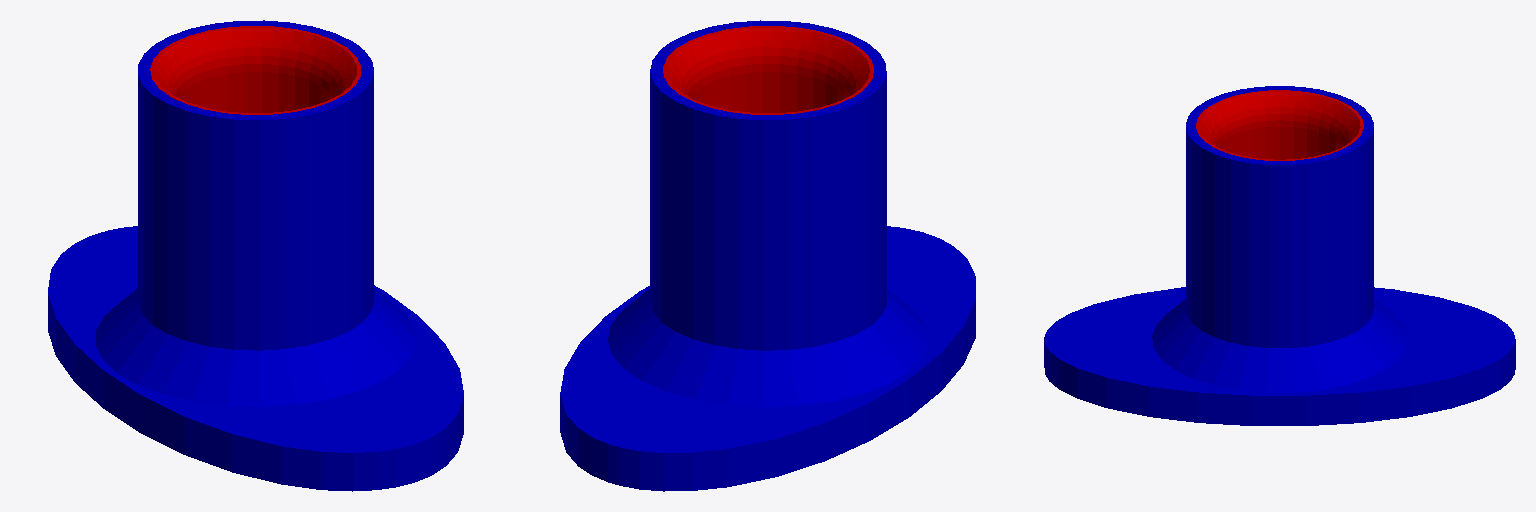
robot.urdf — sparkplug_socket:
<?xml version="1.0" encoding="utf-8"?>
<robot name="sparkplug_socket">
  <!-- <link name="world"/>
  <joint name="sparkplug_socket_to_world" type="fixed">
    <parent link="world"/>
    <child link="sparkplug_socket_outer"/>
    <origin rpy="0 0 0" xyz="0 0 0"/>
  </joint> -->
  <!-- Hack: Make the sparkplug socket super heavy. Unfortunately the base position cannot be changed after spawning in the simulation IF there is a joint between the model and the base frame. :( -->
  <link name="sparkplug_socket_outer">
    <inertial>
      <mass value="1000.0"/>
      <origin rpy="0 0 0" xyz="0 0 0"/>
      <inertia ixx="1" ixy="1e-1" ixz="-1e-1" iyy="1" iyz="1e-1" izz="1"/>
    </inertial>
    <visual>
      <origin rpy="0 0 0" xyz="0 0 0"/>
      <geometry>
        <mesh filename="model://sparkplug_socket/meshes/visual/sparkplug_socket_outer.stl"/>
      </geometry>
      <material name="blue">
        <color rgba="0 0 0.8 1"/>
      </material>
    </visual>
    <collision>
      <origin rpy="0 0 0" xyz="0 0 0"/>
      <geometry>
        <mesh filename="model://sparkplug_socket/meshes/collision/sparkplug_socket_outer.stl"/>
      </geometry>
    </collision>
  </link>

  <joint name="sparkplug_socket_outer_to_inner" type="revolute">
    <origin rpy="0 0 0" xyz="0 0 0"/>
    <parent link="sparkplug_socket_outer"/>
    <child link="sparkplug_socket_inner"/>
    <axis xyz="0 0 1"/>
    <limit effort="0" lower="0" upper="0" velocity="0"/>
  </joint>

  <link name="sparkplug_socket_inner">
    <inertial>
      <mass value="0.026"/>
      <origin rpy="0 0 0" xyz="0 0 0"/>
      <inertia ixx="5.913e-6" ixy="0" ixz="0" iyy="5.913e-6" iyz="0" izz="2.819e-6"/>
    </inertial>
    <visual>
      <origin rpy="0 0 0" xyz="0 0 0"/>
      <geometry>
        <mesh filename="model://sparkplug_socket/meshes/visual/sparkplug_socket_inner.stl"/>
      </geometry>
      <material name="red">
        <color rgba="0.8 0 0 1"/>
      </material>
    </visual>
    <collision>
      <origin rpy="0 0 0" xyz="0 0 0"/>
      <geometry>
        <mesh filename="model://sparkplug_socket/meshes/collision/sparkplug_socket_inner.stl"/>
      </geometry>
    </collision>
  </link>

  <joint name="sparkplug_socket_inner_to_bottom" type="revolute">
    <origin rpy="0 0 0" xyz="0 0 0"/>
    <parent link="sparkplug_socket_inner"/>
    <child link="sparkplug_socket_bottom"/>
    <axis xyz="0 0 1"/>
    <limit effort="0" lower="0" upper="0" velocity="0"/>
  </joint>

  <link name="sparkplug_socket_bottom">
    <inertial>
      <mass value="0.028"/>
      <origin rpy="0 0 0" xyz="0 0 0"/>
      <inertia ixx="7.691e-7" ixy="0" ixz="0" iyy="7.691e-7" iyz="0" izz="1.420e-6"/>
    </inertial>
    <visual>
      <origin rpy="0 0 0" xyz="0 0 0"/>
      <geometry>
        <mesh filename="model://sparkplug_socket/meshes/visual/sparkplug_socket_bottom.stl"/>
      </geometry>
      <material name="green">
        <color rgba="0 0.8 0 1"/>
      </material>
    </visual>
    <collision>
      <origin rpy="0 0 0" xyz="0 0 0"/>
      <geometry>
        <mesh filename="model://sparkplug_socket/meshes/collision/sparkplug_socket_bottom.stl"/>
      </geometry>
    </collision>
  </link>

  <gazebo reference="sparkplug_socket">
    <material>Gazebo/White</material>
    <static>true</static>
    <turnGravityOff>true</turnGravityOff>
    <mu1>0.2</mu1>
    <mu2>0.2</mu2>
    <kp>1e+13</kp> 
    <kd>1</kd>
  </gazebo>

</robot>

--- What the picture shows (computed from the rendered views, not written in the file) ---
Views: 3 orthographic renders of the robot side by side, from view 1: azimuth 30°, elevation 25°; view 2: azimuth 150°, elevation 25°; view 3: azimuth 270°, elevation 25°.
Model sparkplug_socket with 3 links and 2 joints (2 revolute), rooted at sparkplug_socket_outer, posed every joint at zero.
Links seen in each view (by area): view 1: sparkplug_socket_outer, sparkplug_socket_inner; view 2: sparkplug_socket_outer, sparkplug_socket_inner; view 3: sparkplug_socket_outer, sparkplug_socket_inner.
Link boxes in pixels (x1=…): sparkplug_socket_outer: x1=48, y1=20, x2=463, y2=491; sparkplug_socket_inner: x1=150, y1=26, x2=360, y2=114; sparkplug_socket_outer: x1=560, y1=20, x2=975, y2=491; sparkplug_socket_inner: x1=663, y1=26, x2=873, y2=114; sparkplug_socket_outer: x1=1044, y1=86, x2=1515, y2=425; sparkplug_socket_inner: x1=1196, y1=90, x2=1363, y2=160.
Bounding box of the posed robot: 0.0399 × 0.07 × 0.04 m (x, y, z).
Meshes: 3 distinct files referenced, 3 mesh visuals loaded (3 binary STL).